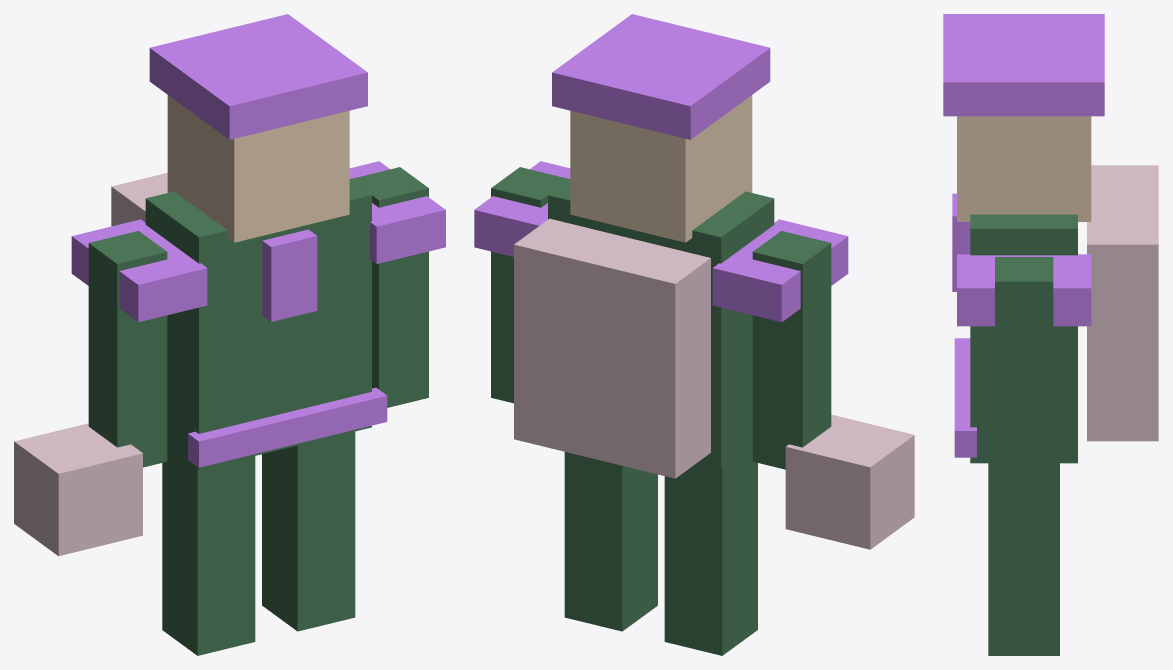
Rendered from 08_korra_starfall_ranger_near_elemental.glb.
3 views of the same model, side by side, from view 1: azimuth 30°, elevation 25°; view 2: azimuth 150°, elevation 25°; view 3: azimuth 270°, elevation 25° (orthographic).
Visible parts, largest first — view 1: Korra Starfall, Ranger near Elemental; view 2: Korra Starfall, Ranger near Elemental; view 3: Korra Starfall, Ranger near Elemental.
Boxes of the visible parts, bbox=[...] form: Korra Starfall, Ranger near Elemental: bbox=[14, 14, 445, 655]; Korra Starfall, Ranger near Elemental: bbox=[474, 14, 914, 655]; Korra Starfall, Ranger near Elemental: bbox=[943, 14, 1158, 655].
Bounding box in the file's own units: 1.04 × 1.47 × 0.5038.
